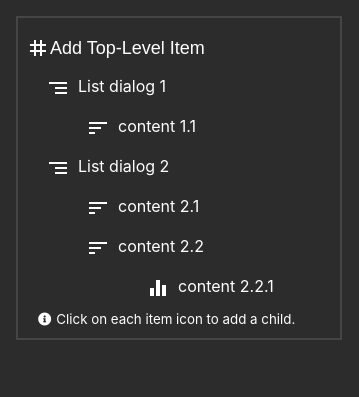
Test case: adds a top-level item when button is clicked
The width and height of the screenshot is (359, 397).
Click the button titled "click here".
click(115, 48)  # box [18,28,213,68]
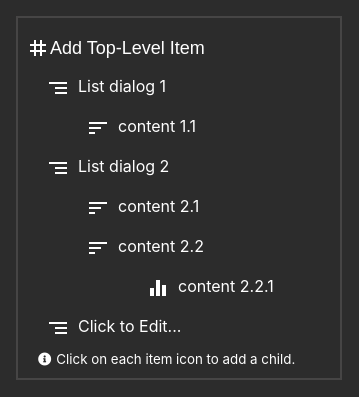
Check: the text "Click to Edit..." is shown, box [78,316,181,336]
